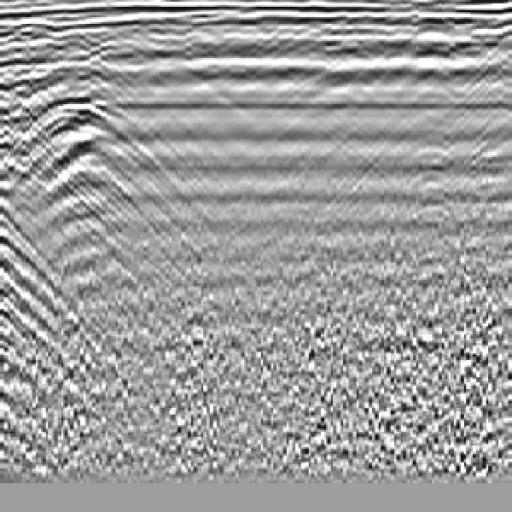metalic: (7, 53, 190, 308)
